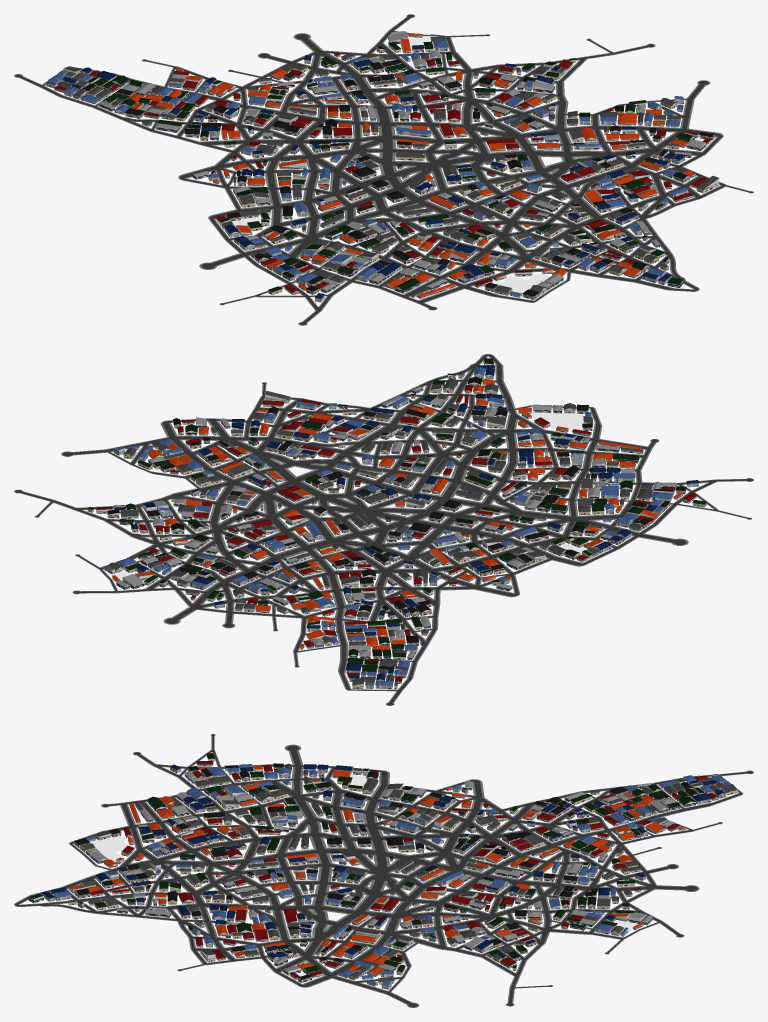
3 views of the same model, one above another, from view 1: azimuth 30°, elevation 25°; view 2: azimuth 150°, elevation 25°; view 3: azimuth 270°, elevation 25° (orthographic). The views are drawn at different scales.
Visible parts, largest first — view 1: CityEngineMaterial_m, CityEngineMaterial_1_m, CityEngineMaterial_3_m, CityEngineMaterial_17_m, CityEngineMaterial_10_m, CityEngineMaterial_9_m, CityEngineMaterial_5_m, CityEngineMaterial_13_m, CityEngineMaterial_12_m, CityEngineMaterial_2_m, CityEngineMaterial_16_m, CityEngineMaterial_4_m (+7 smaller); view 2: CityEngineMaterial_m, CityEngineMaterial_1_m, CityEngineMaterial_3_m, CityEngineMaterial_10_m, CityEngineMaterial_17_m, CityEngineMaterial_5_m, CityEngineMaterial_13_m, CityEngineMaterial_9_m, CityEngineMaterial_4_m, CityEngineMaterial_16_m, CityEngineMaterial_12_m, CityEngineMaterial_2_m (+7 smaller); view 3: CityEngineMaterial_m, CityEngineMaterial_1_m, CityEngineMaterial_3_m, CityEngineMaterial_10_m, CityEngineMaterial_17_m, CityEngineMaterial_5_m, CityEngineMaterial_13_m, CityEngineMaterial_12_m, CityEngineMaterial_9_m, CityEngineMaterial_16_m, CityEngineMaterial_4_m, CityEngineMaterial_2_m (+7 smaller).
Boxes of the visible parts, x1,y1,x2,y2 form: CityEngineMaterial_m: [15, 14, 752, 325]; CityEngineMaterial_1_m: [14, 14, 753, 325]; CityEngineMaterial_3_m: [128, 33, 695, 297]; CityEngineMaterial_17_m: [48, 34, 688, 295]; CityEngineMaterial_10_m: [82, 46, 714, 296]; CityEngineMaterial_9_m: [62, 47, 714, 299]; CityEngineMaterial_5_m: [46, 36, 718, 292]; CityEngineMaterial_13_m: [87, 41, 694, 292]; CityEngineMaterial_12_m: [54, 52, 711, 292]; CityEngineMaterial_2_m: [48, 37, 687, 302]; CityEngineMaterial_16_m: [98, 31, 705, 290]; CityEngineMaterial_4_m: [46, 39, 719, 295]; CityEngineMaterial_m: [15, 354, 752, 705]; CityEngineMaterial_1_m: [14, 354, 753, 705]; CityEngineMaterial_3_m: [112, 378, 683, 650]; CityEngineMaterial_10_m: [107, 373, 686, 669]; CityEngineMaterial_17_m: [105, 367, 672, 685]; CityEngineMaterial_5_m: [107, 371, 630, 685]; CityEngineMaterial_13_m: [87, 358, 706, 671]; CityEngineMaterial_9_m: [107, 375, 686, 681]; CityEngineMaterial_4_m: [87, 373, 706, 689]; CityEngineMaterial_16_m: [116, 386, 676, 657]; CityEngineMaterial_12_m: [96, 384, 697, 681]; CityEngineMaterial_2_m: [104, 368, 698, 689]; CityEngineMaterial_m: [15, 734, 752, 1007]; CityEngineMaterial_1_m: [14, 734, 753, 1007]; CityEngineMaterial_3_m: [69, 765, 685, 974]; CityEngineMaterial_10_m: [74, 763, 693, 979]; CityEngineMaterial_17_m: [53, 764, 731, 985]; CityEngineMaterial_5_m: [68, 774, 737, 982]; CityEngineMaterial_13_m: [29, 753, 704, 972]; CityEngineMaterial_12_m: [90, 761, 718, 977]; CityEngineMaterial_9_m: [74, 767, 725, 982]; CityEngineMaterial_16_m: [85, 770, 675, 971]; CityEngineMaterial_4_m: [68, 755, 737, 984]; CityEngineMaterial_2_m: [41, 766, 726, 989].
Bounding box in the file's own units: 1475 × 17.82 × 1684.
